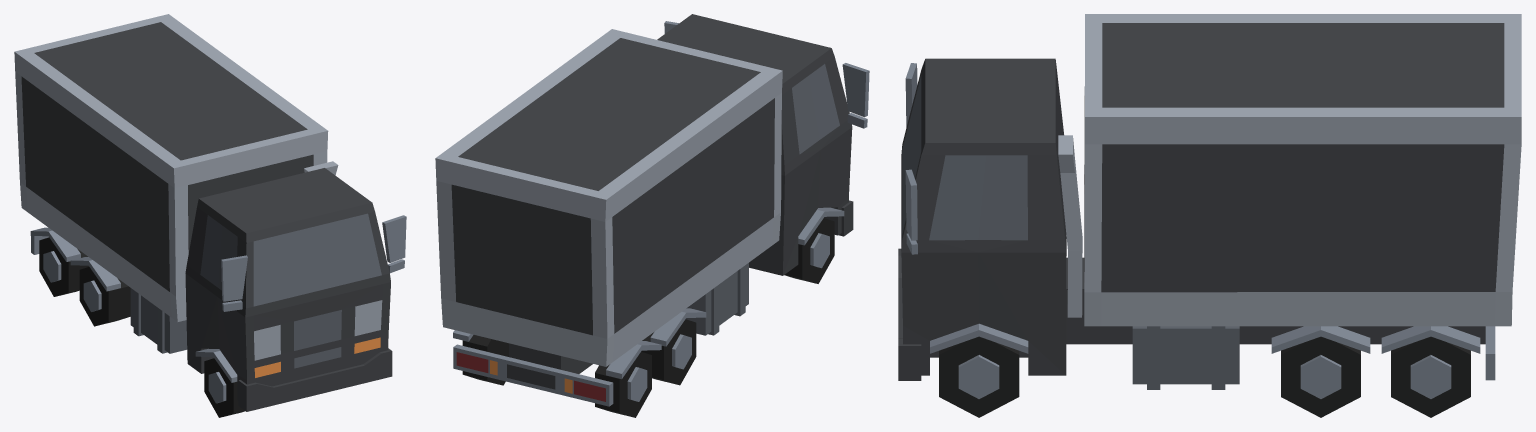
The model's file is Vehicles_Pickup_Truck.fbx.
3 renders of one model, left to right at view 1: azimuth 30°, elevation 25°; view 2: azimuth 150°, elevation 25°; view 3: azimuth 270°, elevation 25°, orthographic. The views are drawn at different scales.
Parts seen in each view (by area): view 1: Vehicles_Pickup_Truck; view 2: Vehicles_Pickup_Truck; view 3: Vehicles_Pickup_Truck.
Boxes of the visible parts, x1=… form: Vehicles_Pickup_Truck: x1=14, y1=14, x2=406, y2=417; Vehicles_Pickup_Truck: x1=435, y1=14, x2=869, y2=417; Vehicles_Pickup_Truck: x1=898, y1=14, x2=1521, y2=417.
Size of the model in its own units: 232 by 269 by 498.
